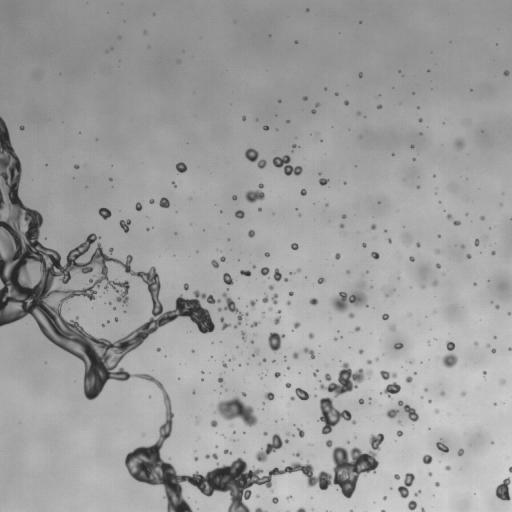droplet: (319, 397, 355, 434), (215, 397, 257, 426), (332, 281, 367, 313), (442, 340, 458, 367), (495, 478, 511, 500), (245, 184, 264, 202), (268, 332, 284, 351), (383, 382, 400, 397), (295, 388, 310, 400), (119, 219, 131, 232), (98, 208, 111, 219), (436, 441, 448, 452), (176, 162, 187, 172), (223, 273, 233, 284), (220, 317, 229, 329), (159, 197, 169, 207), (422, 454, 432, 464), (386, 409, 397, 418), (273, 269, 281, 281), (408, 500, 416, 511), (455, 139, 464, 148), (235, 210, 244, 218), (265, 392, 274, 400), (240, 270, 251, 276), (211, 260, 219, 268), (261, 267, 269, 275), (319, 178, 328, 185), (135, 202, 142, 211), (309, 298, 318, 305), (297, 428, 304, 437), (404, 234, 411, 242), (371, 252, 379, 259), (272, 293, 277, 304), (394, 343, 403, 349), (291, 243, 298, 250), (274, 316, 280, 324), (300, 188, 306, 195), (248, 230, 254, 237), (317, 277, 324, 283), (262, 295, 268, 302), (250, 300, 256, 307), (251, 321, 258, 327), (293, 322, 300, 328), (405, 376, 412, 382), (211, 420, 217, 427), (326, 440, 332, 447), (382, 313, 388, 319), (389, 325, 395, 331), (358, 398, 364, 404), (396, 430, 402, 436), (272, 497, 278, 503), (453, 220, 460, 225), (458, 448, 463, 455), (474, 239, 479, 245), (335, 253, 340, 259), (348, 313, 354, 318), (293, 352, 298, 358), (274, 372, 280, 377), (224, 449, 230, 454), (212, 453, 217, 459), (184, 283, 188, 290), (263, 125, 268, 130), (447, 214, 452, 219), (220, 256, 225, 261), (409, 256, 414, 261), (354, 326, 359, 331), (309, 333, 314, 338), (358, 349, 363, 354), (218, 378, 223, 383), (445, 465, 450, 470), (394, 474, 399, 479), (285, 383, 291, 387), (504, 70, 508, 75), (344, 100, 348, 105), (20, 125, 24, 130), (232, 195, 236, 200), (149, 199, 154, 203), (371, 224, 375, 229), (265, 252, 269, 257), (466, 254, 471, 258), (432, 281, 437, 285), (222, 362, 226, 367), (500, 379, 504, 384), (294, 453, 299, 457), (303, 96, 307, 100), (311, 109, 315, 113), (418, 118, 422, 122), (342, 214, 346, 218), (480, 216, 484, 220), (362, 243, 366, 247), (416, 243, 420, 247), (109, 248, 113, 252), (435, 249, 439, 253), (491, 251, 495, 255), (436, 264, 440, 268), (269, 285, 273, 289), (289, 291, 293, 295), (268, 307, 272, 311), (367, 360, 371, 364), (290, 396, 294, 400), (205, 454, 209, 458), (435, 482, 439, 486), (287, 495, 291, 499), (359, 72, 362, 77), (74, 165, 79, 168), (315, 103, 319, 106), (377, 105, 381, 108), (242, 116, 245, 120), (340, 224, 344, 227), (296, 269, 300, 272), (286, 301, 290, 304), (156, 348, 160, 351), (230, 357, 234, 360), (262, 358, 266, 361), (483, 371, 486, 375), (242, 392, 245, 396), (440, 392, 444, 395), (461, 392, 465, 395), (194, 457, 198, 460), (421, 508, 425, 511), (293, 144, 296, 147), (172, 182, 175, 185), (388, 239, 391, 242), (284, 278, 287, 281), (496, 305, 499, 308), (277, 310, 280, 313), (492, 349, 495, 352), (409, 361, 412, 364), (381, 509, 385, 511), (335, 92, 337, 95), (109, 178, 112, 180), (258, 208, 261, 210), (347, 270, 349, 273), (218, 308, 221, 310), (245, 313, 248, 315), (115, 318, 117, 321), (474, 342, 477, 344), (287, 366, 289, 369), (428, 400, 431, 402), (435, 410, 438, 412), (264, 432, 266, 435), (428, 473, 431, 475), (383, 497, 386, 499), (295, 41, 297, 43), (287, 120, 289, 122), (411, 145, 413, 147), (413, 158, 415, 160), (417, 186, 419, 188), (326, 204, 328, 206), (438, 235, 440, 237), (252, 265, 254, 267), (108, 302, 110, 304), (102, 324, 104, 326), (509, 348, 511, 350), (193, 391, 195, 393), (494, 403, 496, 405), (491, 441, 493, 443), (256, 495, 258, 497)
ligament: (0, 117, 381, 511), (319, 362, 371, 397), (256, 434, 288, 462), (222, 292, 243, 328), (272, 155, 302, 175), (398, 400, 419, 421), (245, 148, 266, 168), (398, 473, 414, 498), (380, 370, 396, 379), (303, 347, 314, 359), (385, 288, 394, 297), (241, 331, 246, 341), (254, 507, 266, 511), (296, 507, 306, 511), (252, 350, 258, 356), (313, 370, 318, 376), (414, 490, 420, 495), (509, 466, 511, 472), (349, 510, 353, 511)
